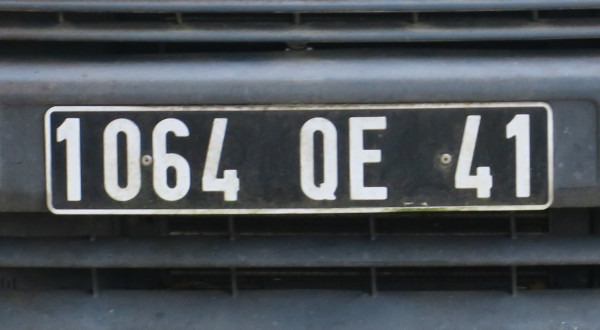license_plate: (46, 101, 552, 216)
